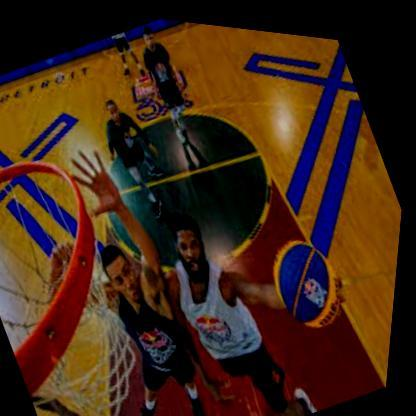basketball: (259, 217, 367, 339)
rim: (0, 143, 172, 416)
